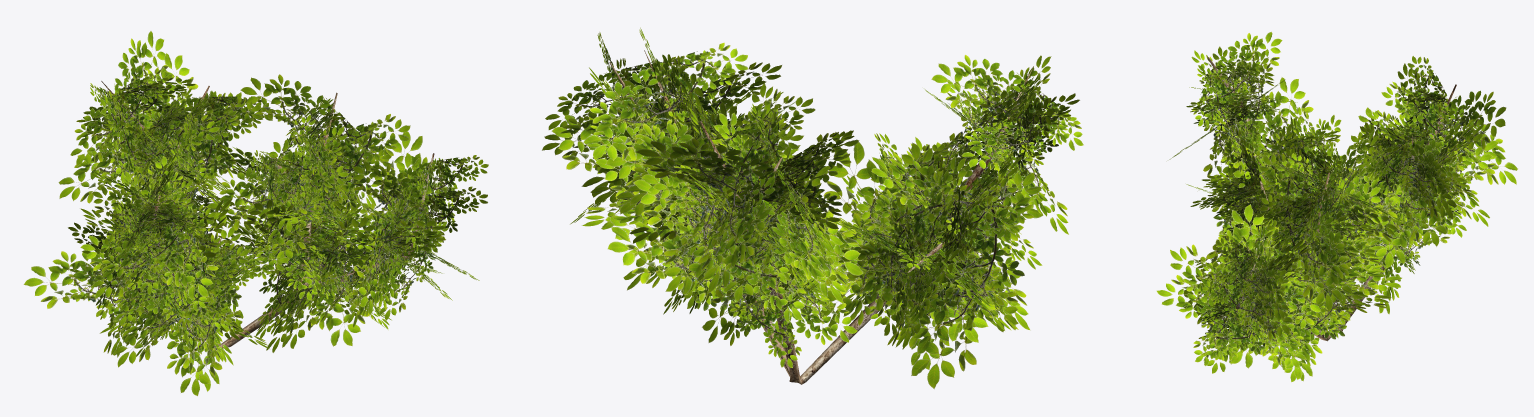
Rendered from bush0_LOD0.fbx.
3 views of the same model, side by side, from view 1: azimuth 30°, elevation 25°; view 2: azimuth 150°, elevation 25°; view 3: azimuth 270°, elevation 25° (orthographic). The views are drawn at different scales.
Parts seen in each view (by area): view 1: bush_branch, bush; view 2: bush_branch, bush; view 3: bush_branch, bush.
Boxes of the visible parts, box(x1,y1,x2,y2) form: bush_branch: box(23, 31, 488, 396); bush: box(101, 81, 434, 349); bush_branch: box(542, 27, 1083, 389); bush: box(609, 50, 1033, 384); bush_branch: box(1156, 31, 1517, 382); bush: box(1207, 57, 1456, 341).
Bounding box in the file's own units: 874 × 574 × 694.
3 materials, 3 textured.
